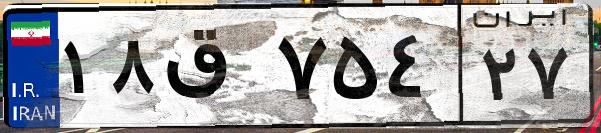1: (57, 26, 110, 100)
2: (475, 38, 525, 113)
4: (385, 28, 445, 110)
5: (330, 28, 385, 110)
7: (270, 28, 330, 110), (525, 38, 570, 115)
8: (110, 28, 158, 98)
ق: (158, 20, 270, 120)
